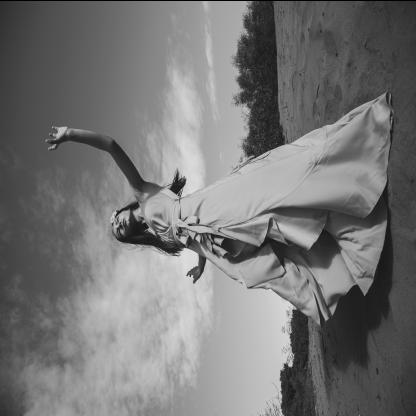Eye: (116, 214, 119, 222), (118, 228, 121, 236)
Mouth: (122, 217, 126, 228)
Nose: (118, 219, 122, 228)
